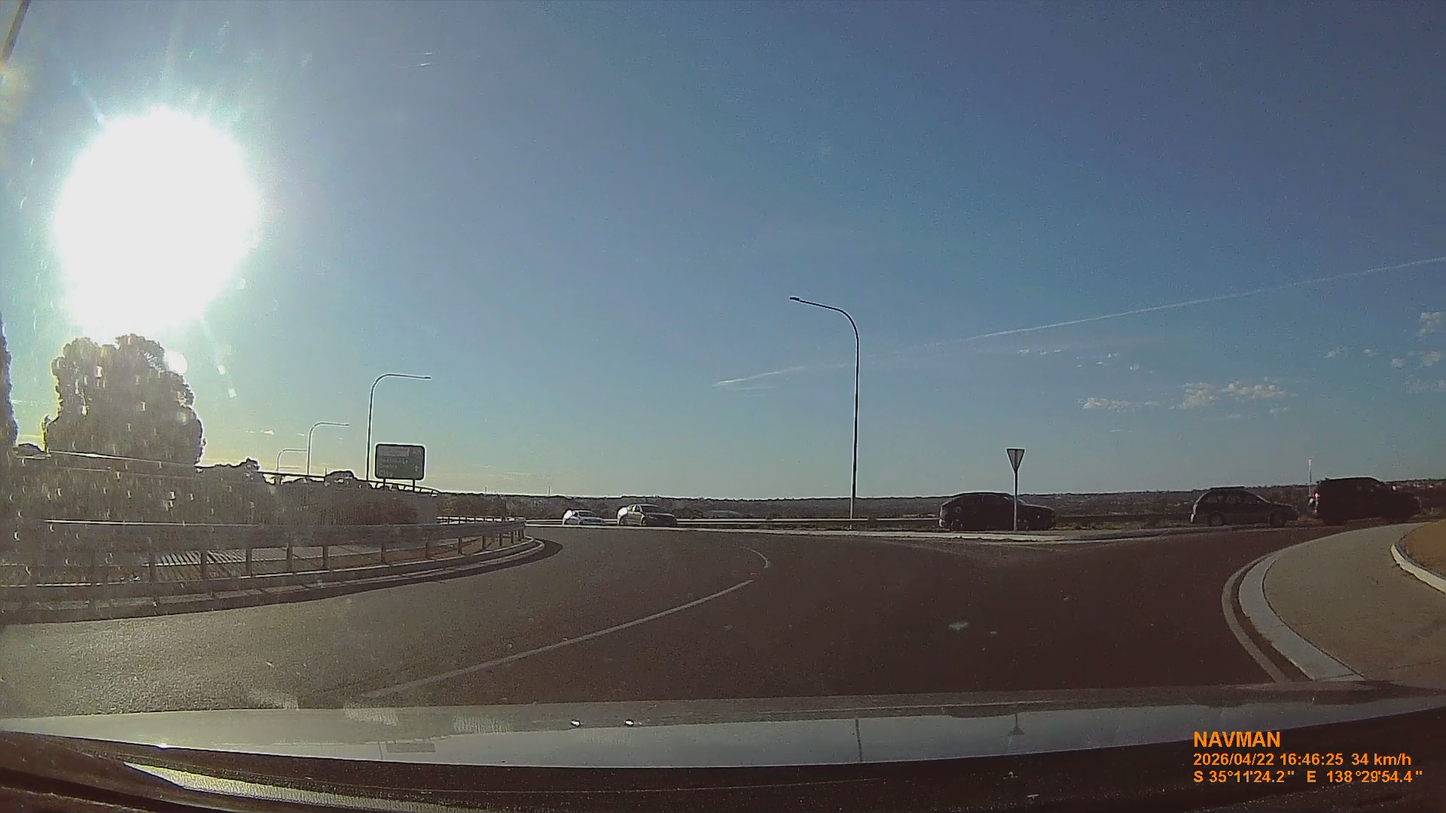road barriers: (3, 520, 525, 589), (636, 509, 917, 531)
